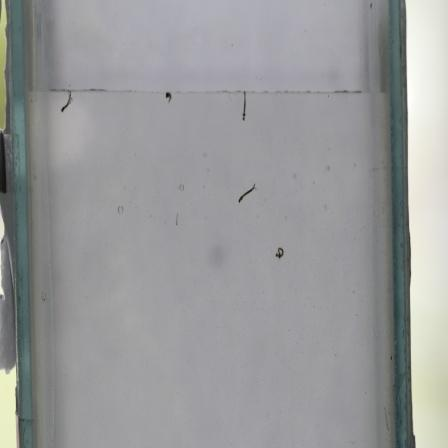Jentik-Nyamuk: (233, 181, 258, 208), (237, 87, 252, 127), (56, 87, 76, 116), (272, 243, 287, 262), (162, 89, 175, 108)
